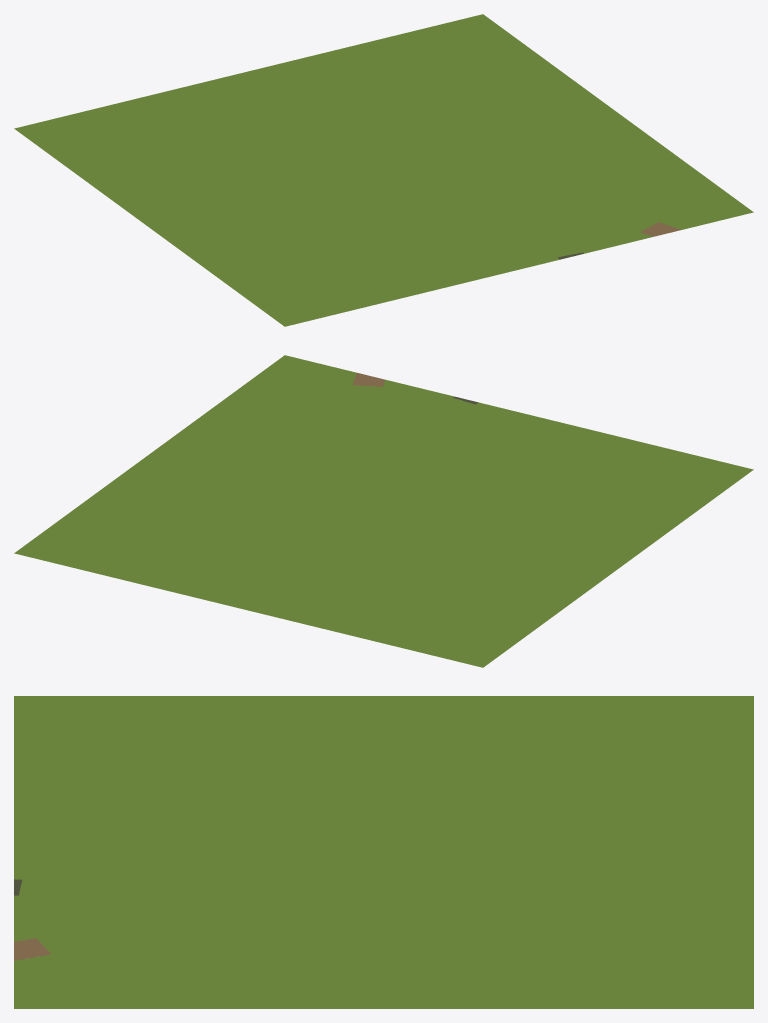
File: cure-5-1.glb
The picture shows the model from 3 angles, top to bottom: view 1: azimuth 30°, elevation 25°; view 2: azimuth 150°, elevation 25°; view 3: azimuth 270°, elevation 25°; orthographic projection. The views are drawn at different scales.
Visible parts, largest first — view 1: cure-5-1; view 2: cure-5-1; view 3: cure-5-1.
Boxes of the visible parts, x1=… form: cure-5-1: x1=14, y1=14, x2=753, y2=326; cure-5-1: x1=14, y1=355, x2=753, y2=667; cure-5-1: x1=14, y1=696, x2=753, y2=1008.
Bounding box in the file's own units: 100 × 0.003 × 100.
